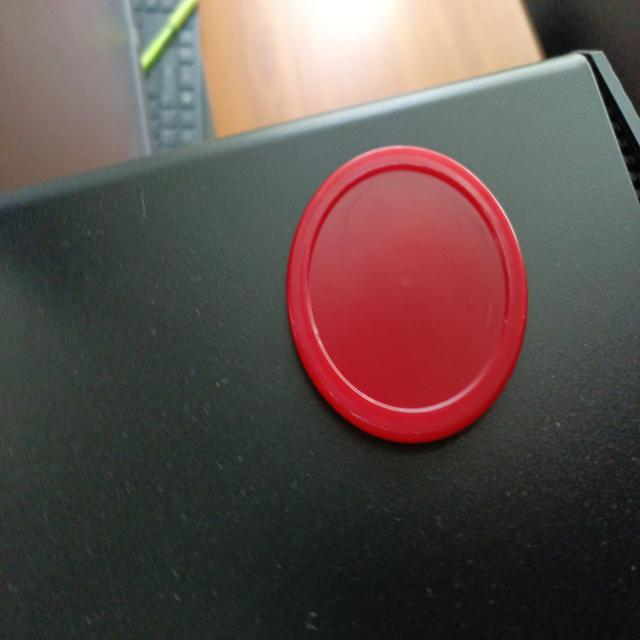chip: (288, 145, 529, 441)
